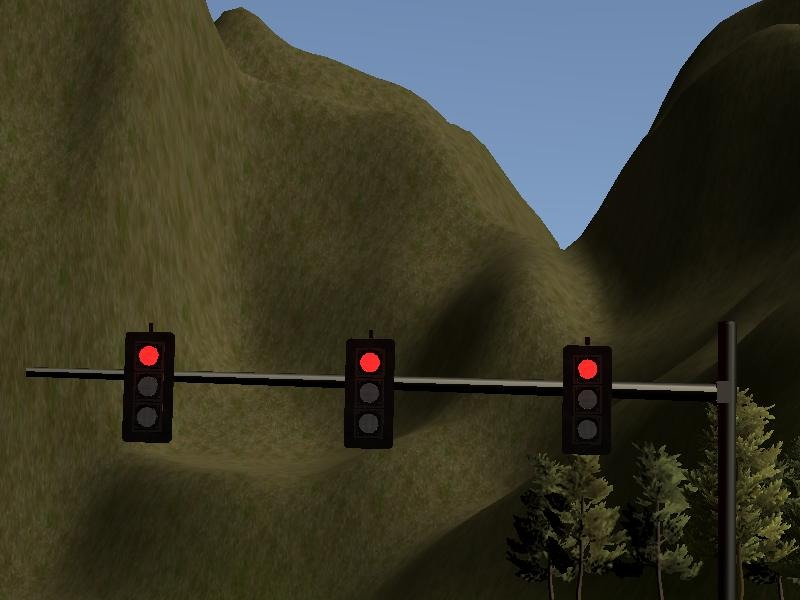red: (123, 330, 175, 444), (560, 344, 612, 458), (343, 336, 395, 450)
